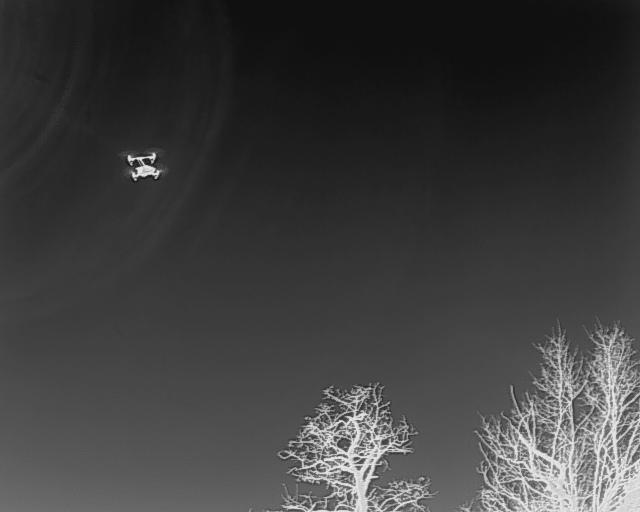drone: (117, 148, 171, 188)
